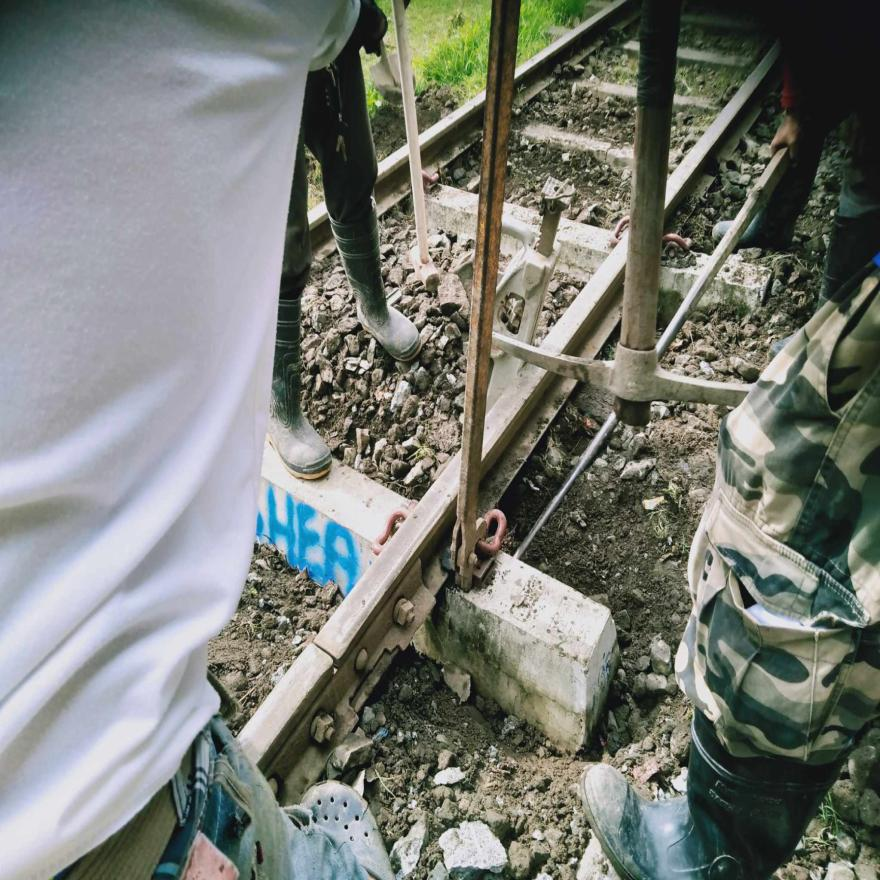railway-gap: (285, 601, 362, 702)
